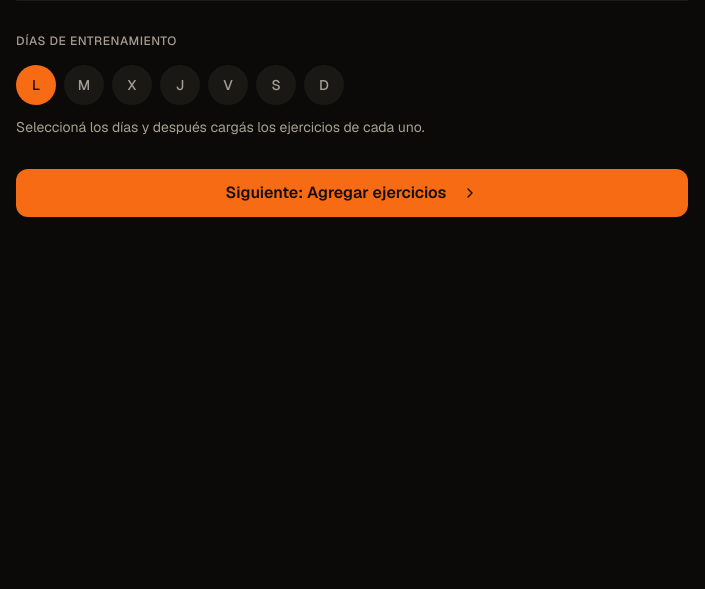
Test case: RoutineForm methodology toggle › switches an exercise to advanced and reveals the set editor
This screenshot has width=705, height=589.
Click the button "Siguiente: Agregar ejercicios" at (352,193), box [16,169,688,217]
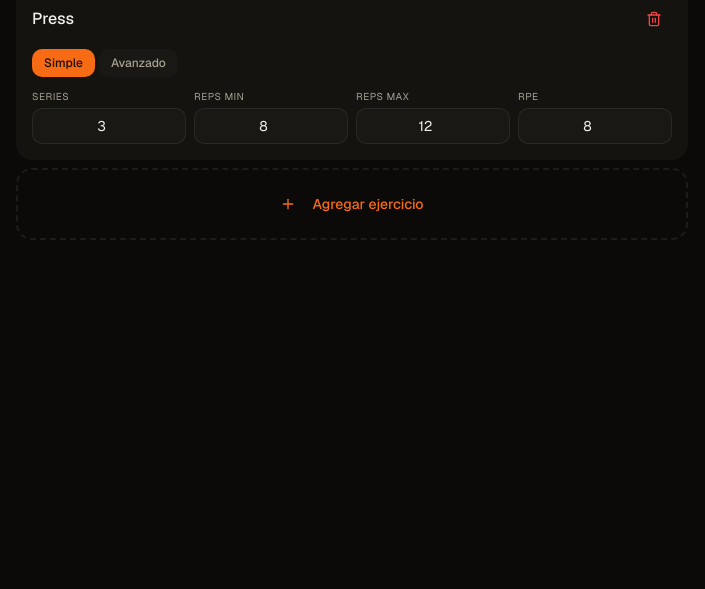
Check: the text "Agregar set" is not shown
# Toggle the exercise to Advanced
Click the button "Avanzado" at (138,63), box [99,49,178,77]
(page scrolled)
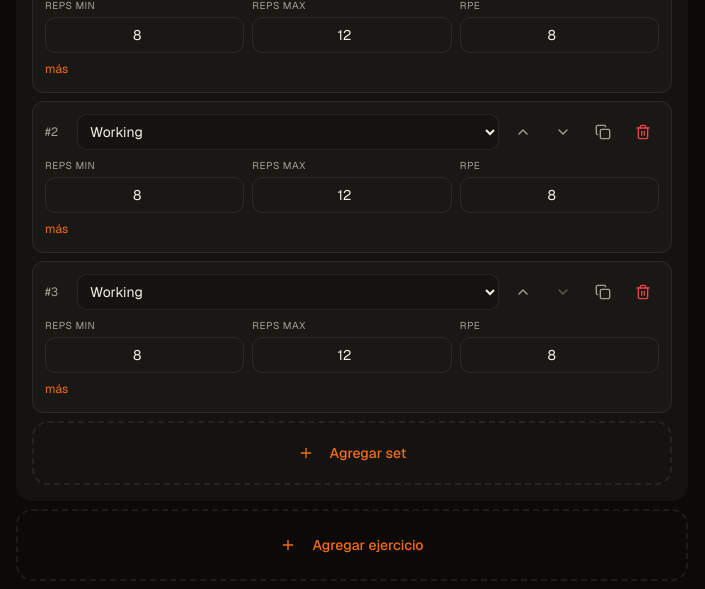
Check: the button "Agregar set" is shown, box [286,435,418,471]
